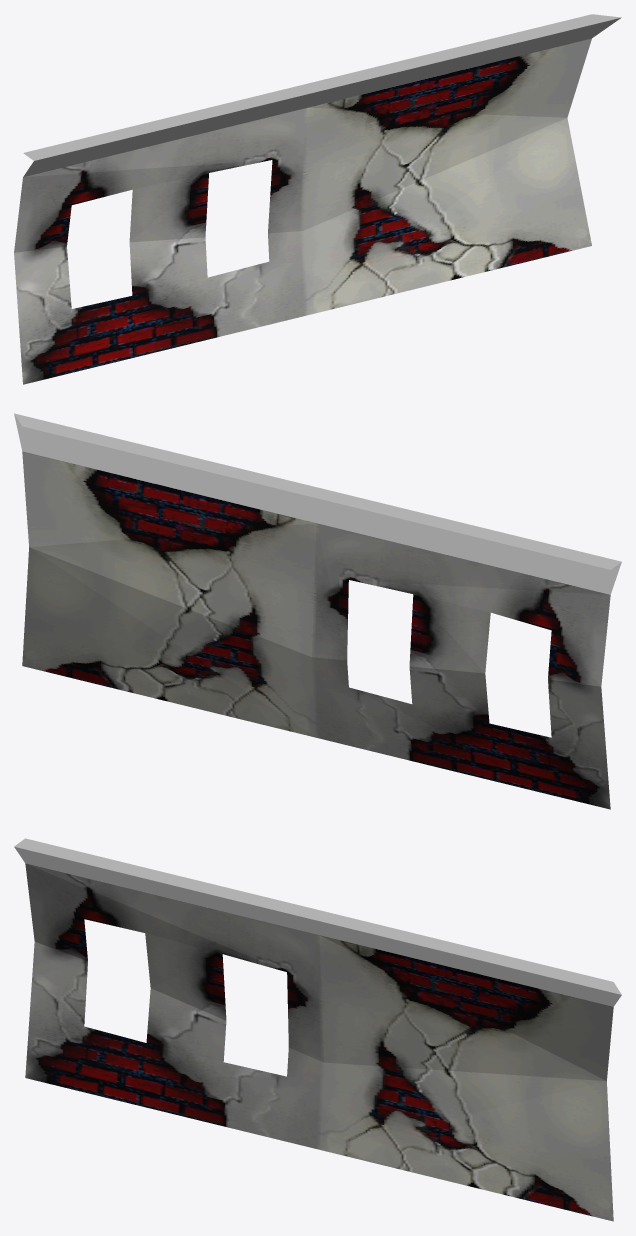
File: W_A2r_ffxx_341.glb
The picture shows the model from 3 angles, top to bottom: view 1: azimuth 30°, elevation 25°; view 2: azimuth 150°, elevation 25°; view 3: azimuth 330°, elevation 25°; orthographic projection. The views are drawn at different scales.
Parts seen in each view (by area): view 1: polySurfaceShape893, polySurfaceShape1045; view 2: polySurfaceShape893, polySurfaceShape1045; view 3: polySurfaceShape893, polySurfaceShape1045.
Boxes of the visible parts, left/top/right/bottom form: polySurfaceShape893: left=14, top=38, right=591, bottom=384; polySurfaceShape1045: left=23, top=14, right=621, bottom=176; polySurfaceShape893: left=22, top=451, right=610, bottom=809; polySurfaceShape1045: left=14, top=413, right=621, bottom=594; polySurfaceShape893: left=25, top=863, right=613, bottom=1221; polySurfaceShape1045: left=14, top=838, right=621, bottom=1006.
Size of the model in its own units: 1.03 by 0.3891 by 0.0607.
Materials: 2 (2 with a texture image).
